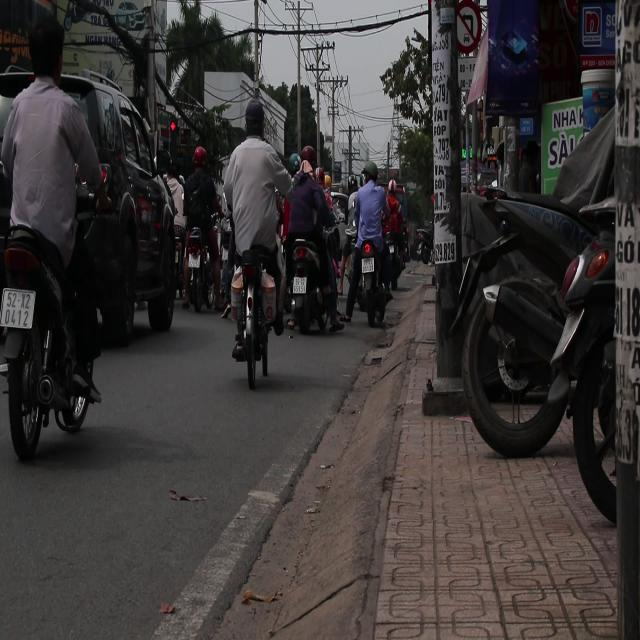car: (0, 55, 184, 343)
motorbike: (1, 228, 103, 458), (230, 208, 278, 378), (281, 215, 336, 339), (181, 208, 232, 330), (346, 216, 391, 344), (380, 210, 410, 304)
